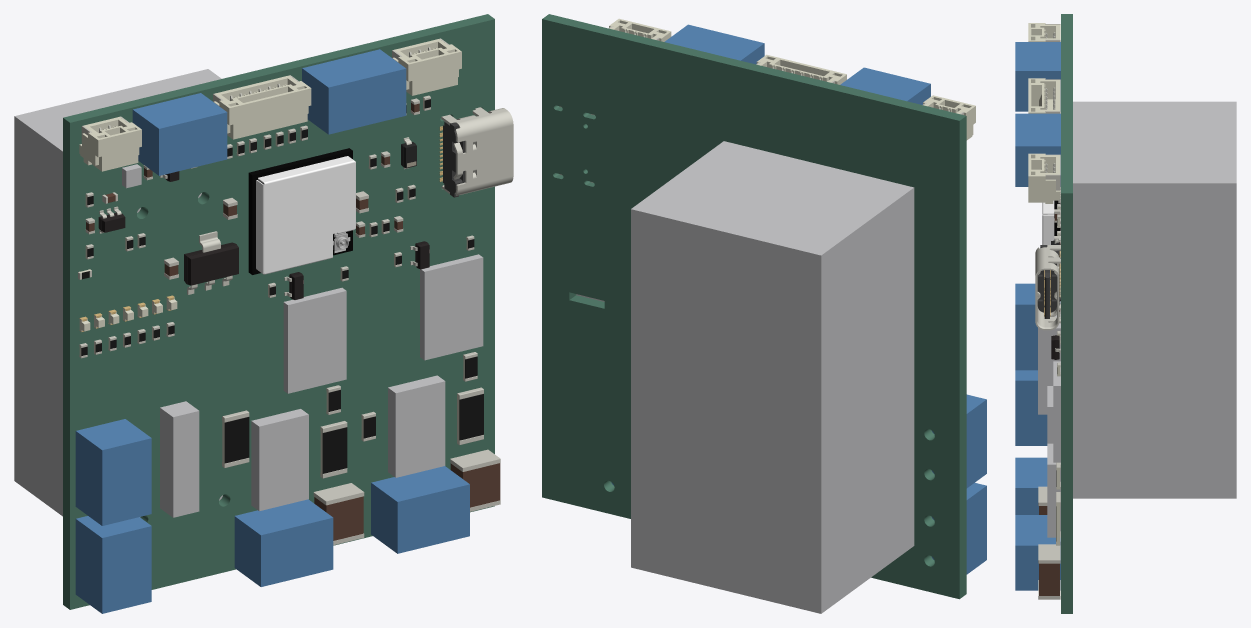
Rendered from board.glb.
3 views of the same model, side by side, from view 1: azimuth 30°, elevation 25°; view 2: azimuth 150°, elevation 25°; view 3: azimuth 270°, elevation 25° (orthographic). The views are drawn at different scales.
Parts seen in each view (by area): view 1: =>[0:1:1:34], PS1, =>[0:1:1:27]_e61719, J13, J14, J15, J10, J12, J2, U8, U9, Q5 (+16 smaller); view 2: PS1, =>[0:1:1:34], J10, J2, J13, J12, =>[0:1:1:15]_143ece, =>[0:1:1:29]_5aa911, =>[0:1:1:33]_86f29c; view 3: PS1, =>[0:1:1:34], J10, J15, J2, J12, J13, J14, =>[0:1:1:33]_86f29c, =>[0:1:1:9]_2c6776, F1, =>[0:1:1:15]_143ece (+8 smaller).
Boxes of the visible parts, x1=… form: =>[0:1:1:34]: x1=63, y1=14, x2=494, y2=609; PS1: x1=14, y1=69, x2=222, y2=516; =>[0:1:1:27]_e61719: x1=256, y1=156, x2=355, y2=274; J13: x1=75, y1=419, x2=151, y2=525; J14: x1=234, y1=499, x2=333, y2=586; J15: x1=371, y1=466, x2=469, y2=553; J10: x1=302, y1=49, x2=406, y2=134; J12: x1=75, y1=516, x2=151, y2=613; J2: x1=132, y1=93, x2=227, y2=175; U8: x1=283, y1=287, x2=346, y2=393; U9: x1=420, y1=254, x2=483, y2=360; Q5: x1=251, y1=409, x2=308, y2=511; PS1: x1=631, y1=141, x2=914, y2=613; =>[0:1:1:34]: x1=542, y1=14, x2=966, y2=599; J10: x1=665, y1=24, x2=764, y2=64; J2: x1=840, y1=67, x2=930, y2=104; J13: x1=931, y1=394, x2=986, y2=488; J12: x1=932, y1=483, x2=986, y2=574; =>[0:1:1:15]_143ece: x1=756, y1=54, x2=846, y2=84; =>[0:1:1:29]_5aa911: x1=923, y1=95, x2=975, y2=140; =>[0:1:1:33]_86f29c: x1=609, y1=18, x2=671, y2=41; PS1: x1=1073, y1=101, x2=1236, y2=498; =>[0:1:1:34]: x1=1061, y1=14, x2=1072, y2=613; J10: x1=1015, y1=113, x2=1060, y2=186; J15: x1=1015, y1=515, x2=1060, y2=590; J2: x1=1015, y1=42, x2=1060, y2=111; J12: x1=1015, y1=370, x2=1047, y2=445; J13: x1=1015, y1=283, x2=1060, y2=370; J14: x1=1015, y1=457, x2=1047, y2=514; =>[0:1:1:33]_86f29c: x1=1028, y1=153, x2=1060, y2=203; =>[0:1:1:9]_2c6776: x1=1035, y1=245, x2=1060, y2=330; F1: x1=1038, y1=328, x2=1053, y2=414; =>[0:1:1:15]_143ece: x1=1028, y1=78, x2=1060, y2=113.
Size of the model in its own units: 56.17 by 61 by 29.1.
